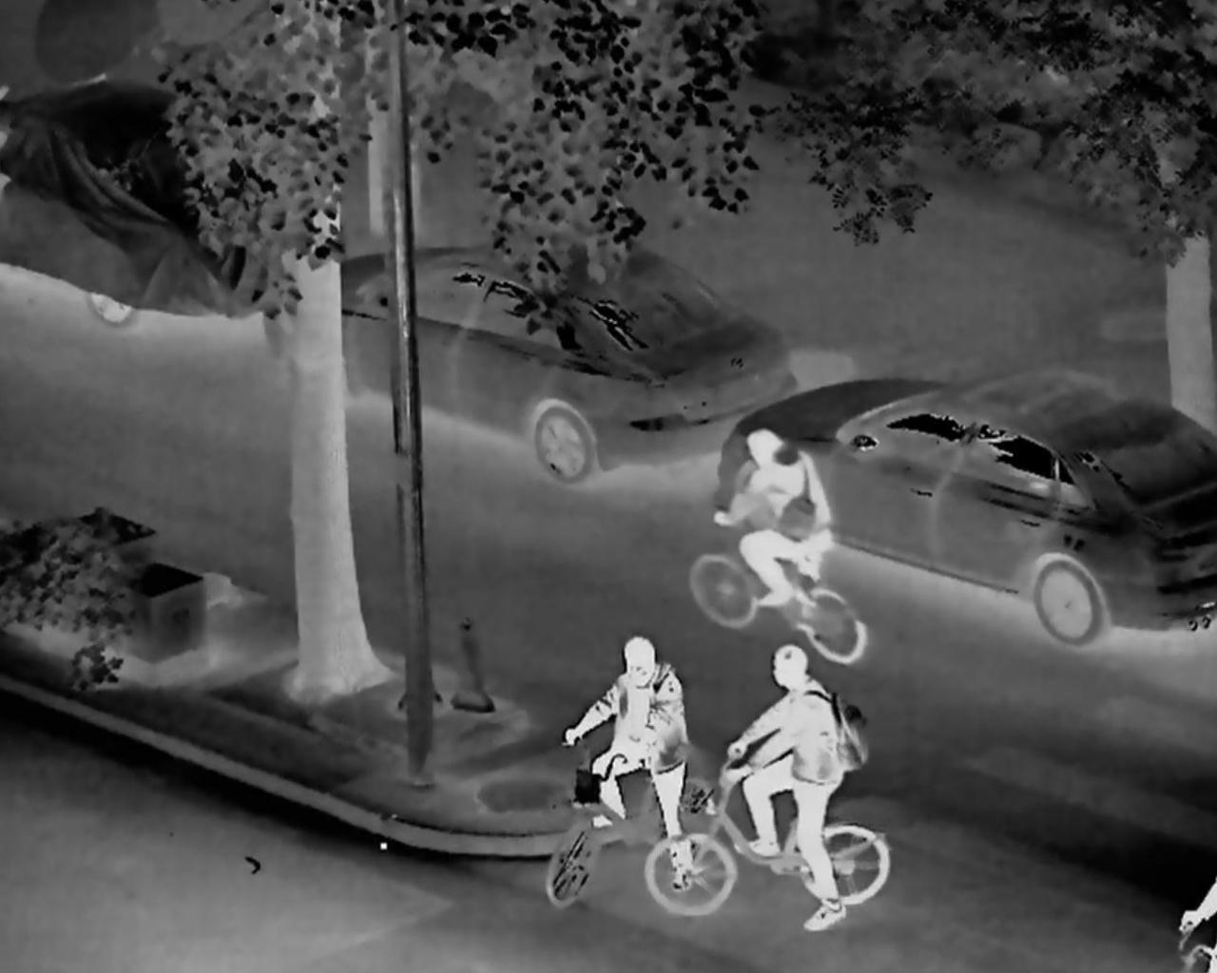person: (723, 628, 871, 936), (572, 612, 694, 874), (725, 404, 837, 620)
